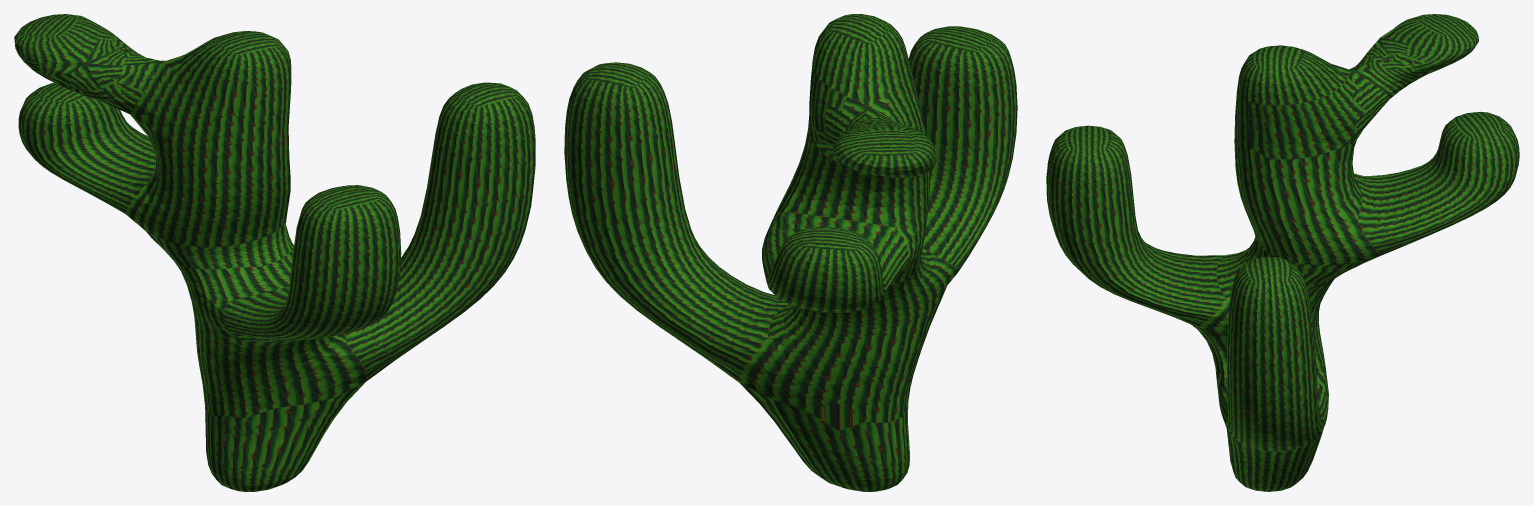
File: cactus1.obj
The picture shows the model from 3 angles, left to right: view 1: azimuth 30°, elevation 25°; view 2: azimuth 150°, elevation 25°; view 3: azimuth 270°, elevation 25°; orthographic projection. The views are drawn at different scales.
Parts seen in each view (by area): view 1: cactus1_Plane; view 2: cactus1_Plane; view 3: cactus1_Plane.
Part boxes in pixels (x1,y1,x2,y2): cactus1_Plane: (14,14,535,491); cactus1_Plane: (564,14,1017,491); cactus1_Plane: (1046,14,1519,491).
Size of the model in its own units: 1 by 1 by 1.
